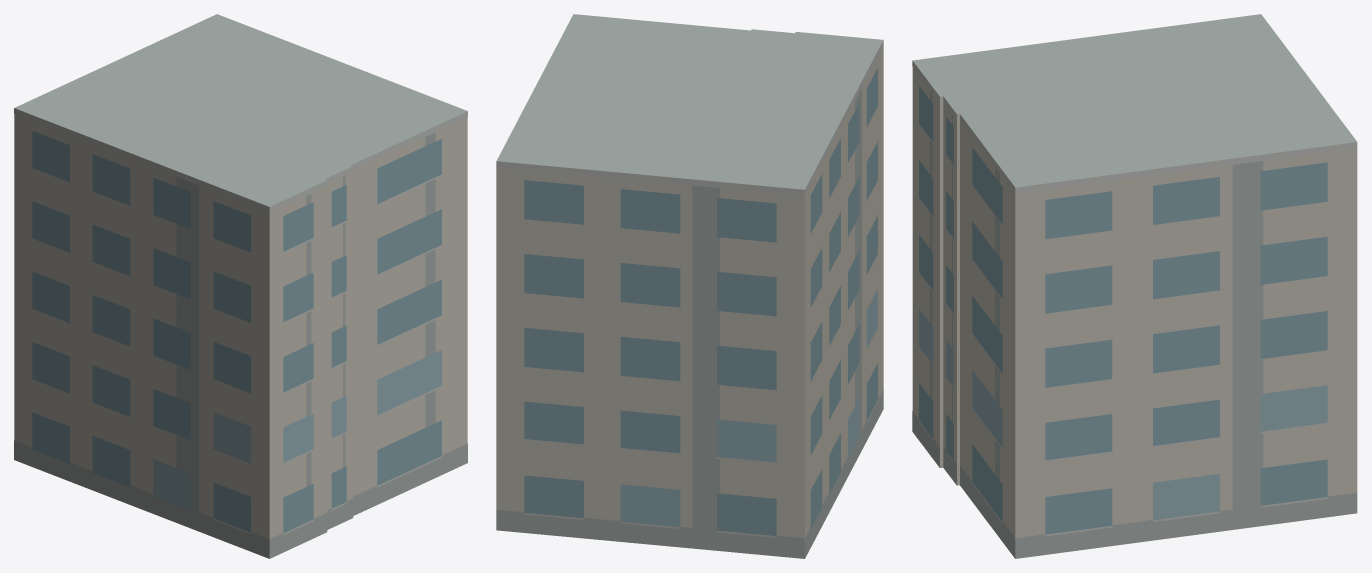
File: survey-upis-32617785.glb
The picture shows the model from 3 angles, left to right: view 1: azimuth 30°, elevation 25°; view 2: azimuth 150°, elevation 25°; view 3: azimuth 270°, elevation 25°; orthographic projection. The views are drawn at different scales.
Visible parts, largest first — view 1: survey-upis-32617785.tmp; view 2: survey-upis-32617785.tmp; view 3: survey-upis-32617785.tmp.
Part boxes in pixels (x1,y1,x2,y2): survey-upis-32617785.tmp: (14,14,467,558); survey-upis-32617785.tmp: (496,14,883,558); survey-upis-32617785.tmp: (912,14,1357,558).
Bounding box in the file's own units: 14.45 × 14.4 × 15.65.
